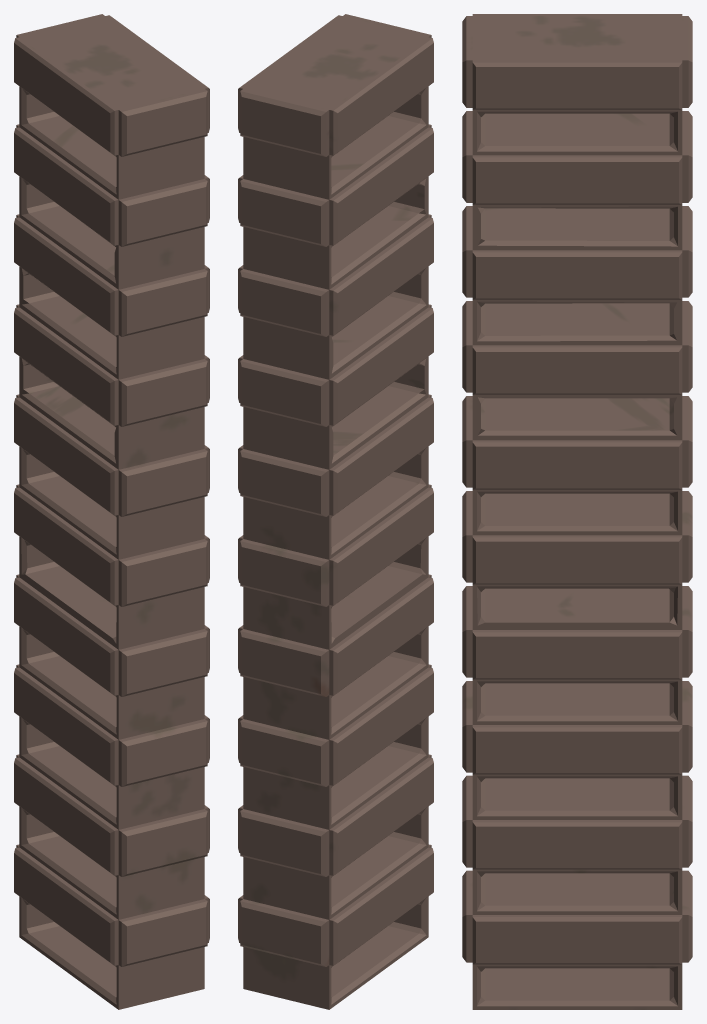
File: rail.fbx
The picture shows the model from 3 angles, left to right: view 1: azimuth 30°, elevation 25°; view 2: azimuth 150°, elevation 25°; view 3: azimuth 270°, elevation 25°; orthographic projection. The views are drawn at different scales.
Parts seen in each view (by area): view 1: rail; view 2: rail; view 3: rail.
Part boxes in pixels (x1,y1,x2,y2): rail: (14, 14, 209, 1009); rail: (238, 14, 433, 1009); rail: (462, 14, 692, 1009).
Bounding box in the file's own units: 0.116 × 1 × 0.22.
